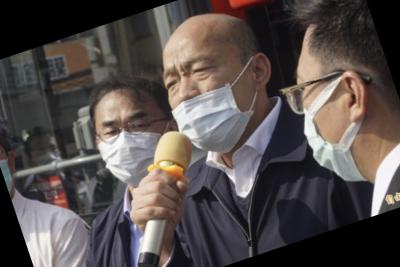mask_weared_incorrect: (157, 35, 278, 167)
with_mask: (273, 52, 379, 200), (89, 97, 187, 195)
